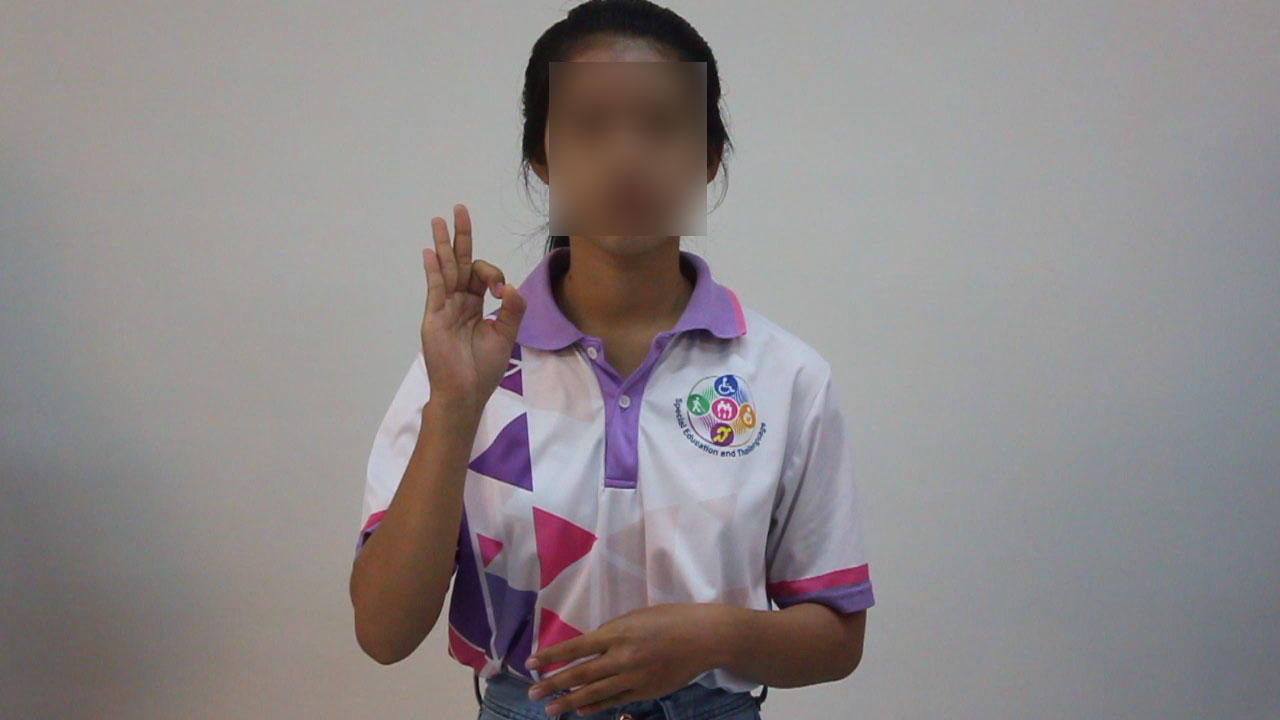for: (411, 193, 534, 416)
